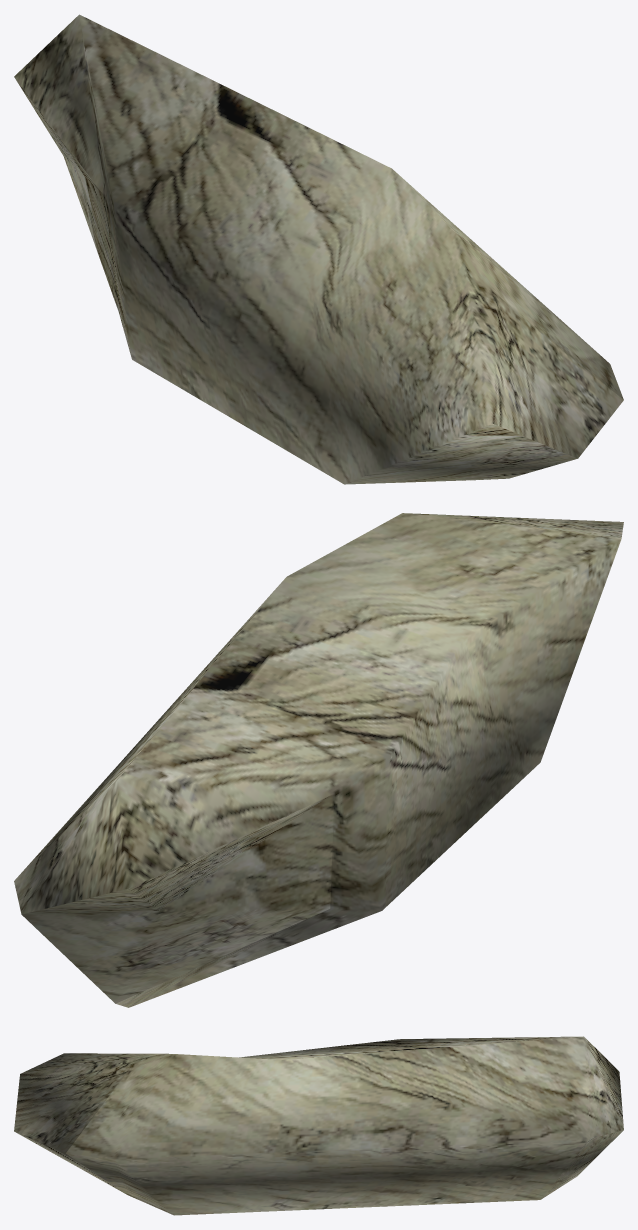
Rendered from shor_driftwood_massassi_sm_l0.fbx.
3 views of the same model, one above another, from view 1: azimuth 30°, elevation 25°; view 2: azimuth 150°, elevation 25°; view 3: azimuth 270°, elevation 25° (orthographic). The views are drawn at different scales.
Visible parts, largest first — view 1: mesh_node; view 2: mesh_node; view 3: mesh_node.
Boxes of the visible parts, x1=… form: mesh_node: x1=14, y1=14, x2=623, y2=484; mesh_node: x1=14, y1=513, x2=623, y2=1007; mesh_node: x1=14, y1=1036, x2=623, y2=1215.
Bounding box in the file's own units: 0.4803 × 0.4194 × 1.49.
